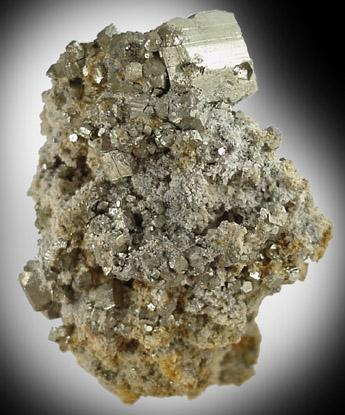pyrite: (157, 10, 257, 102)
